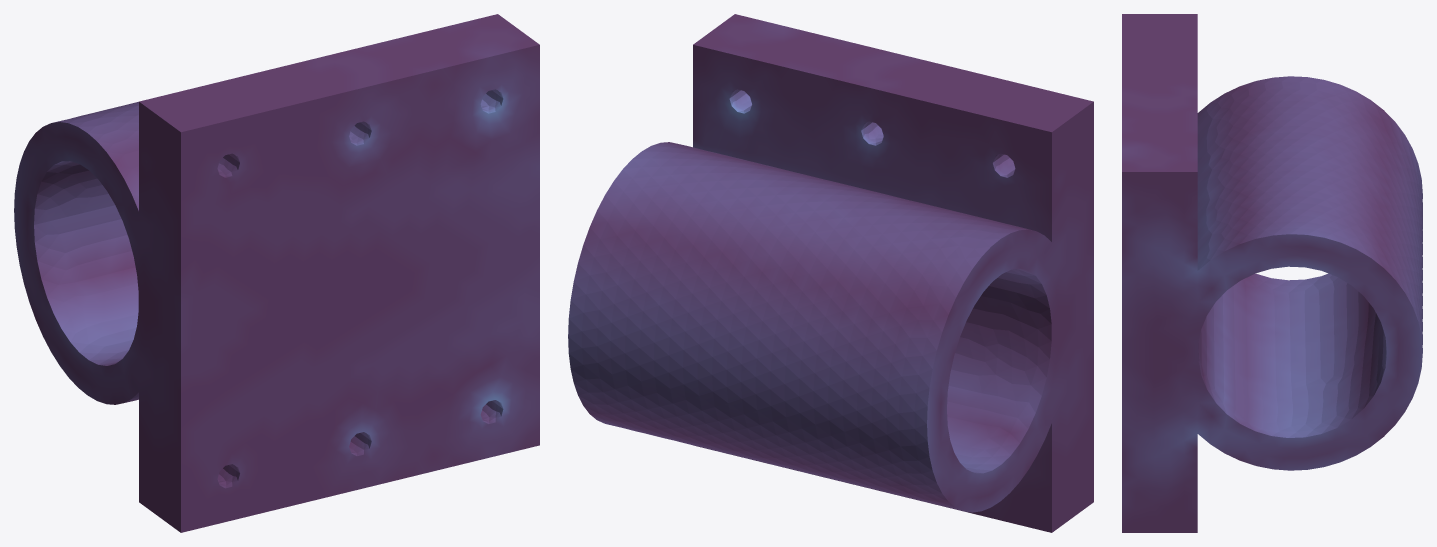
The model's file is P4_gear_saddle.glb.
3 renders of one model, left to right at view 1: azimuth 30°, elevation 25°; view 2: azimuth 150°, elevation 25°; view 3: azimuth 270°, elevation 25°, orthographic. The views are drawn at different scales.
Visible parts, largest first — view 1: geometry_0; view 2: geometry_0; view 3: geometry_0.
Boxes of the visible parts, x1,y1,x2,y2 form: geometry_0: [14, 14, 539, 532]; geometry_0: [568, 14, 1093, 532]; geometry_0: [1122, 14, 1422, 532].
Size of the model in its own units: 0.15 by 0.16 by 0.1208.
